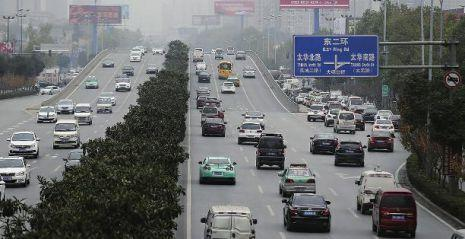bus: (216, 60, 233, 79), (190, 47, 204, 62)
car: (372, 187, 418, 237), (280, 192, 333, 234), (353, 166, 397, 215), (198, 204, 258, 239), (276, 162, 317, 197), (254, 132, 287, 169), (197, 156, 238, 185), (334, 138, 368, 168), (5, 130, 40, 159), (1, 153, 30, 186), (52, 119, 81, 148), (63, 148, 91, 174), (308, 132, 339, 155), (236, 121, 265, 145), (366, 130, 396, 152), (332, 110, 356, 135), (201, 117, 227, 138), (240, 110, 265, 131), (72, 102, 93, 124), (342, 112, 366, 131), (370, 118, 394, 137), (322, 109, 347, 127), (307, 103, 330, 122), (200, 105, 219, 127), (36, 105, 58, 123), (372, 108, 395, 125), (385, 113, 405, 131), (54, 97, 75, 113), (360, 102, 378, 118), (95, 97, 113, 113), (346, 97, 363, 112), (114, 77, 132, 91), (98, 91, 116, 105), (39, 85, 61, 96), (204, 97, 222, 109), (83, 74, 98, 88), (195, 86, 211, 99), (196, 95, 210, 109), (225, 74, 240, 87), (219, 81, 236, 92), (193, 62, 208, 74), (196, 70, 211, 82), (241, 66, 256, 78), (120, 65, 135, 76), (128, 50, 141, 62), (144, 64, 160, 73), (213, 47, 224, 60), (101, 58, 115, 68), (114, 73, 128, 82), (224, 45, 235, 56), (234, 50, 246, 60)
